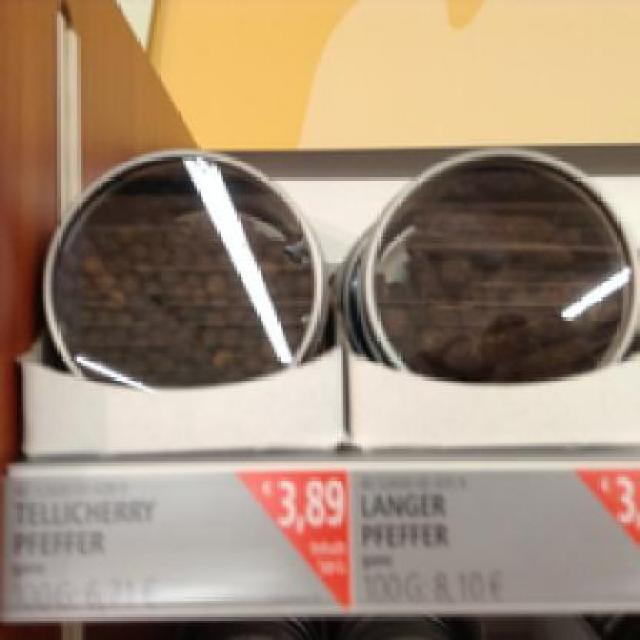Spices: (40, 146, 326, 383), (357, 143, 632, 380)
